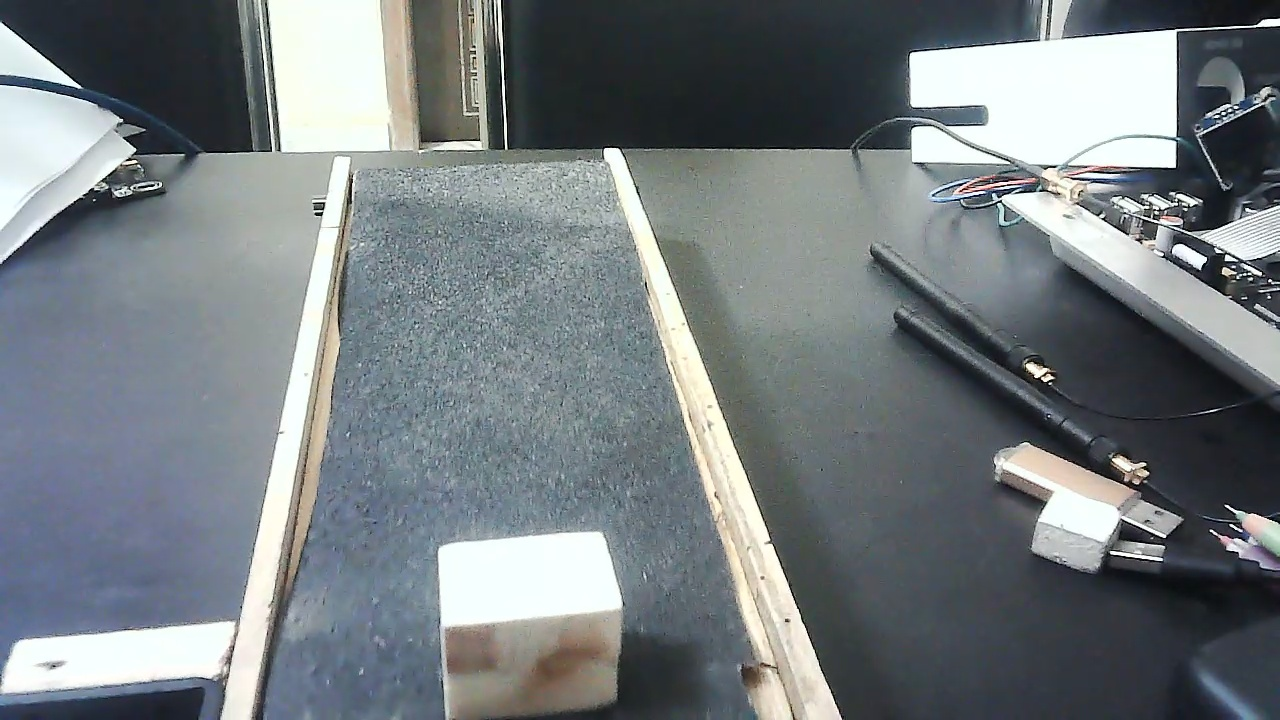Medium: (436, 526, 629, 720)
